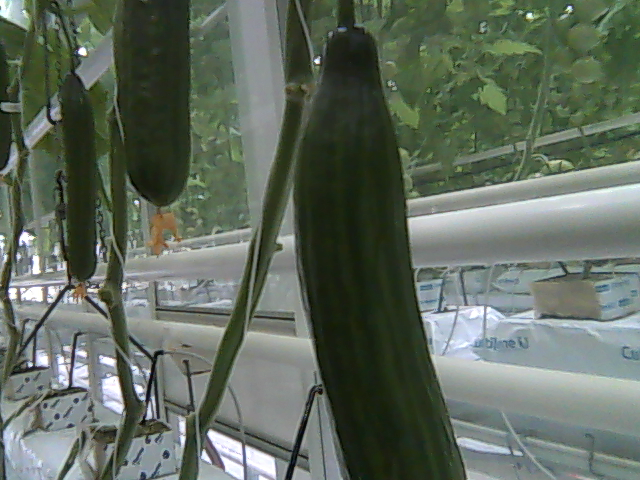concombre: (288, 16, 471, 480), (107, 1, 192, 257), (55, 65, 99, 298)
